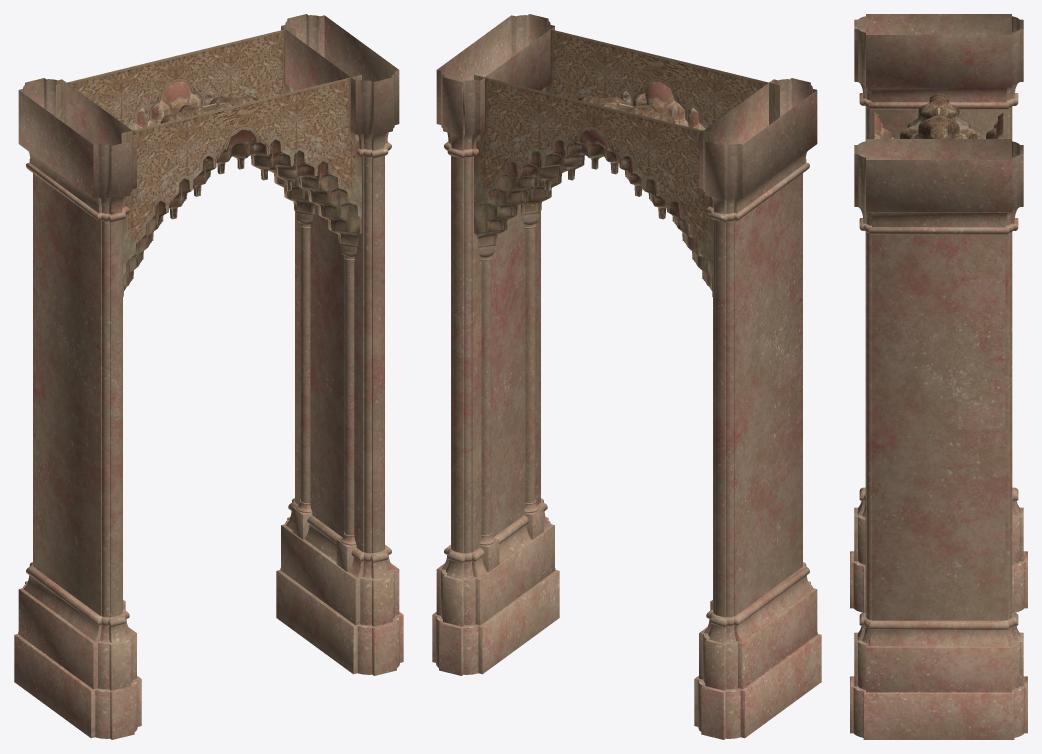
The model's file is muq_arch.glb.
3 renders of one model, left to right at view 1: azimuth 30°, elevation 25°; view 2: azimuth 150°, elevation 25°; view 3: azimuth 270°, elevation 25°, orthographic. The views are drawn at different scales.
Parts seen in each view (by area): view 1: Object_3, Object_2; view 2: Object_3, Object_2; view 3: Object_3, Object_2.
Boxes of the visible parts, x1,y1,x2,y2 form: Object_3: (14,14,403,739); Object_2: (56,26,361,296); Object_3: (432,14,821,739); Object_2: (474,26,779,296); Object_3: (850,14,1027,739); Object_2: (874,92,1003,138).
Bounding box in the file's own units: 3335 × 6030 × 1681.
Materials: 2 (2 with a texture image).
